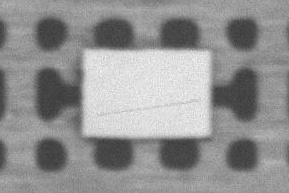DIE_CRACK: (145, 67, 289, 77)
